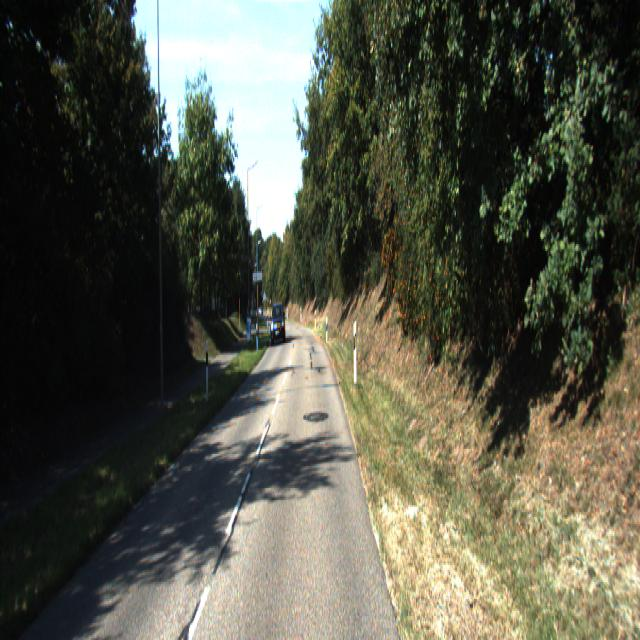Car: (269, 301, 286, 351)
